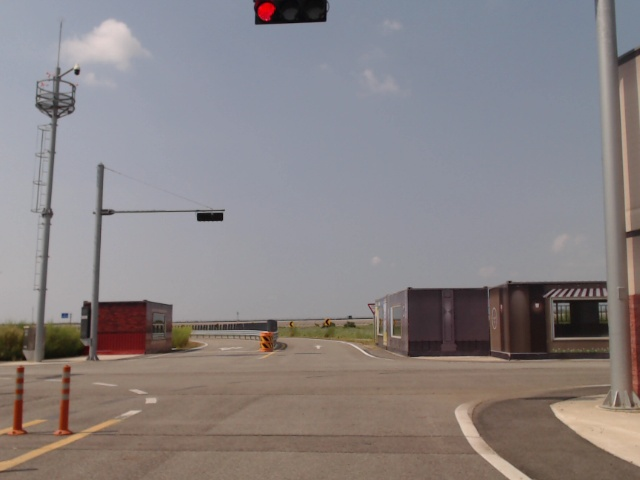red_3: (254, 0, 328, 26)
